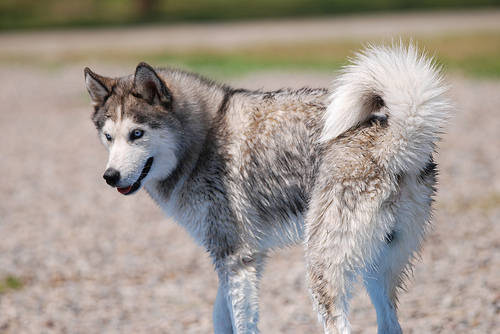dog: (82, 38, 456, 333)
